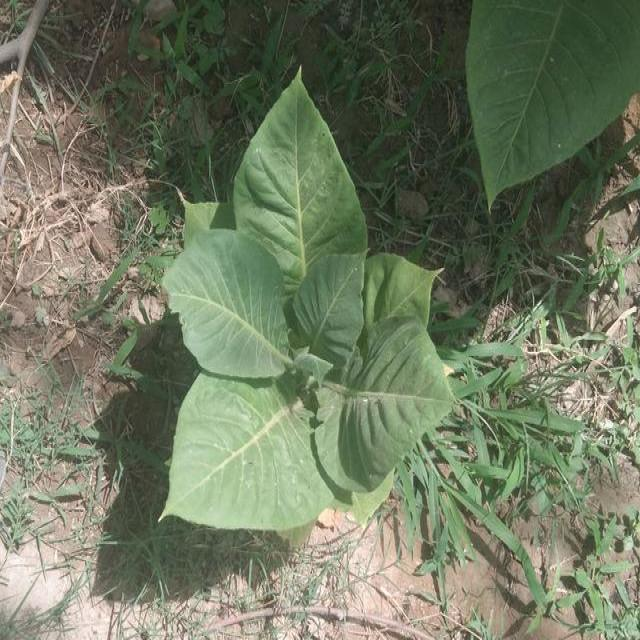crop: (155, 64, 460, 556)
